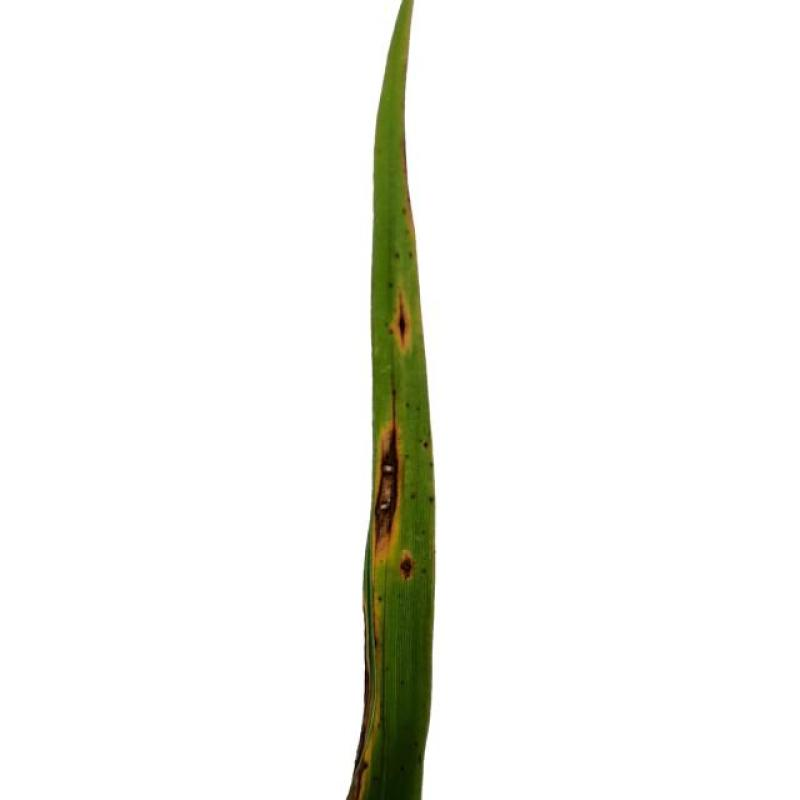Leaf_Blast: (375, 394, 404, 552), (392, 282, 418, 351), (398, 551, 416, 590)
